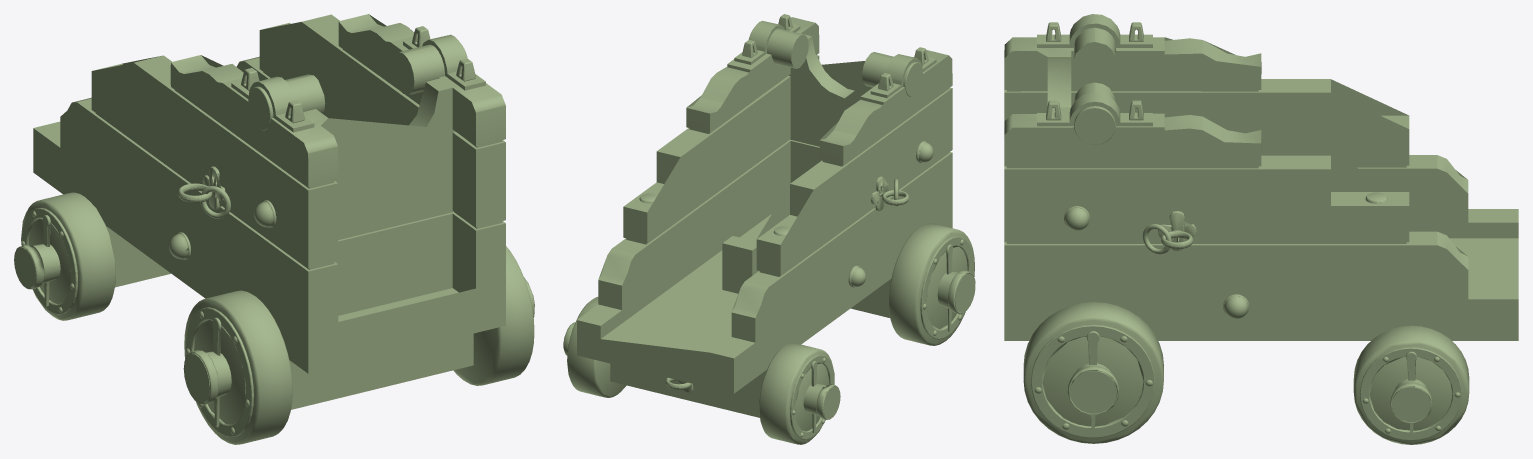
Rendered from cannon-carriage.glb.
The picture shows the model from 3 angles, left to right: view 1: azimuth 30°, elevation 25°; view 2: azimuth 150°, elevation 25°; view 3: azimuth 270°, elevation 25°; orthographic projection. The views are drawn at different scales.
Visible parts, largest first — view 1: trees; view 2: trees; view 3: trees.
Part boxes in pixels (bbox=[...]): trees: bbox=[14, 14, 534, 444]; trees: bbox=[563, 14, 975, 444]; trees: bbox=[1004, 14, 1518, 444].
Bounding box in the file's own units: 49.84 × 50.52 × 72.57.
